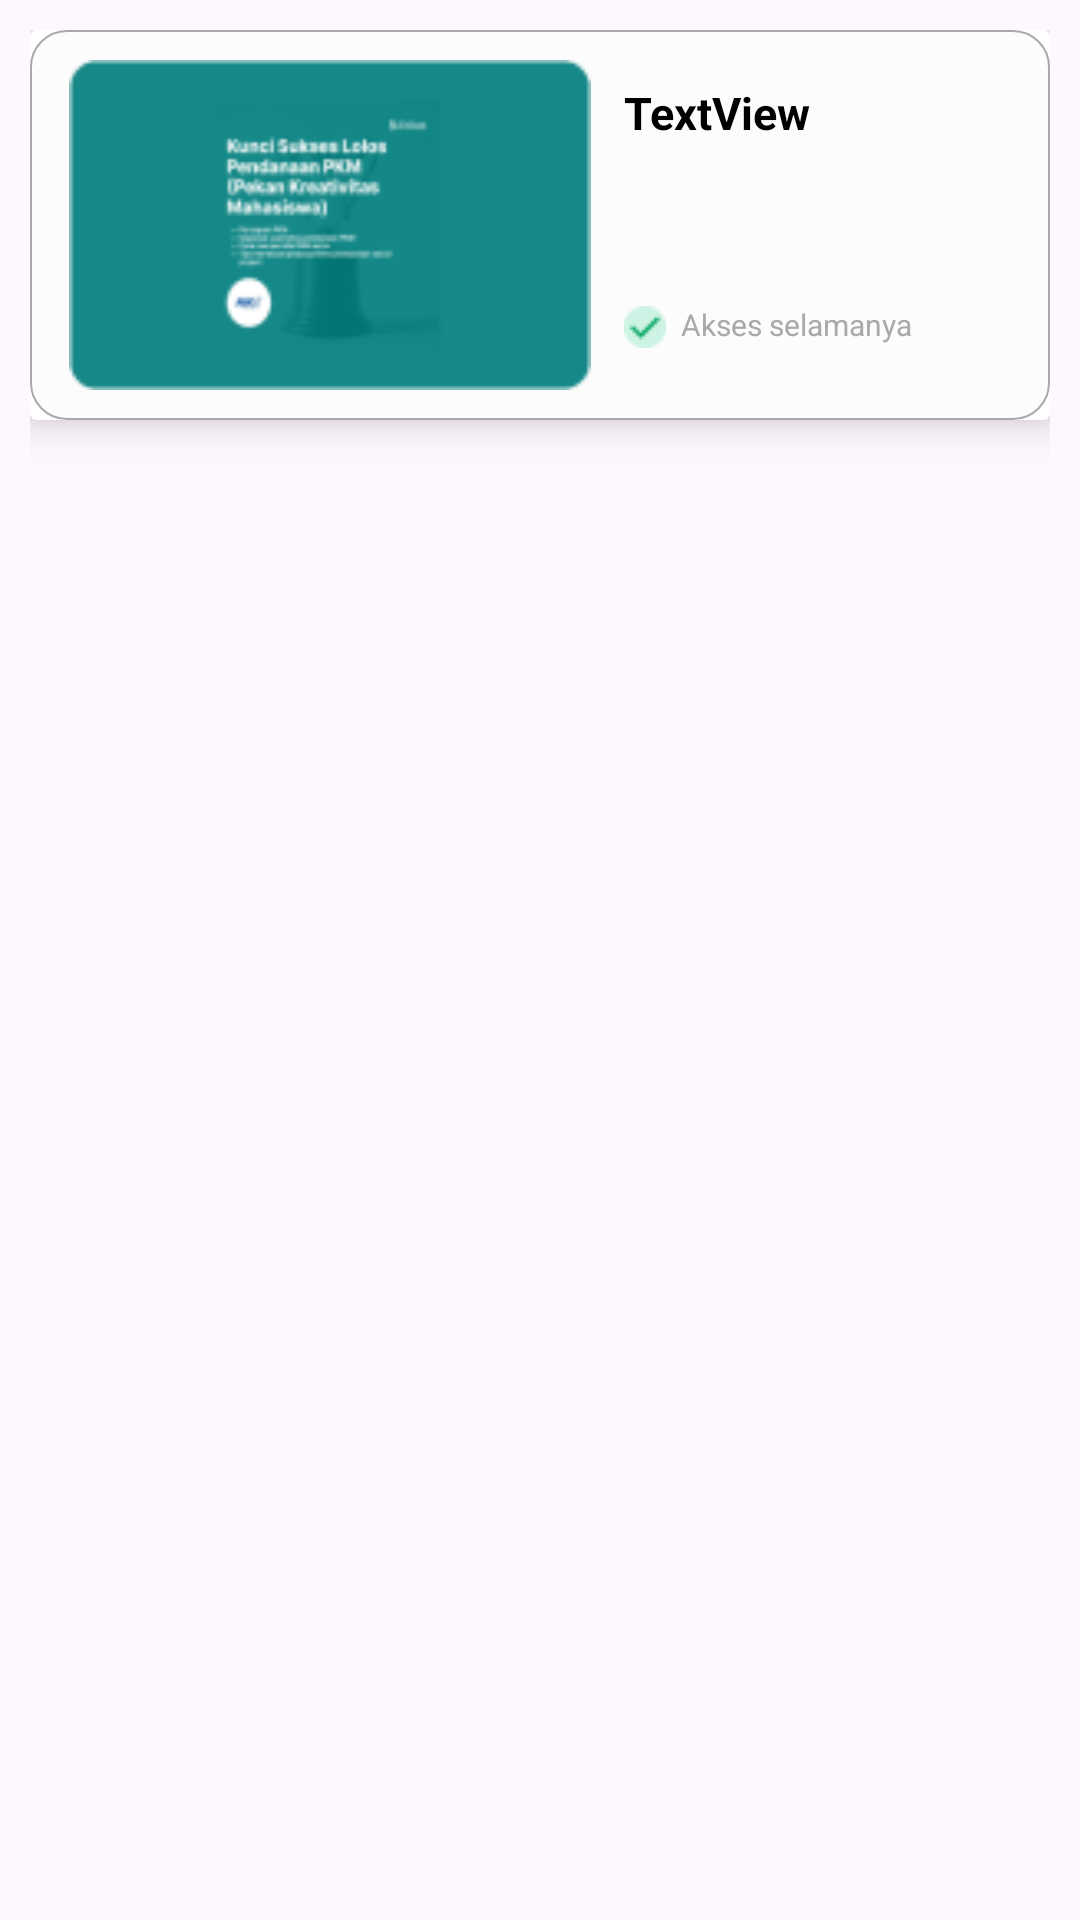

Screen size 1080px×1920px. Icon name, then its box in pixels as {"left": x1, "top": y1, "right": x2, "bottom": y2}:
tick: {"left": 624, "top": 306, "right": 666, "bottom": 348}
